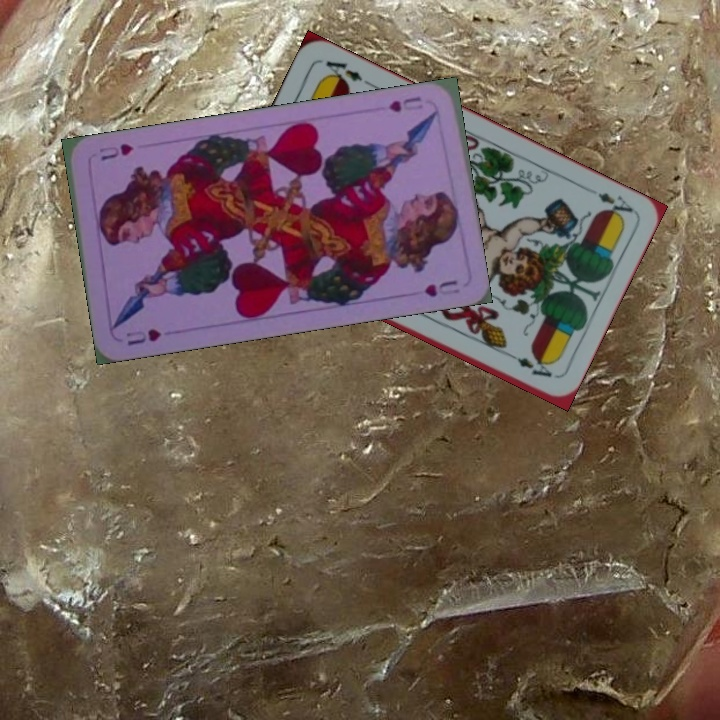EA: (594, 188, 636, 222)
HU: (122, 324, 164, 348), (385, 92, 426, 115)
